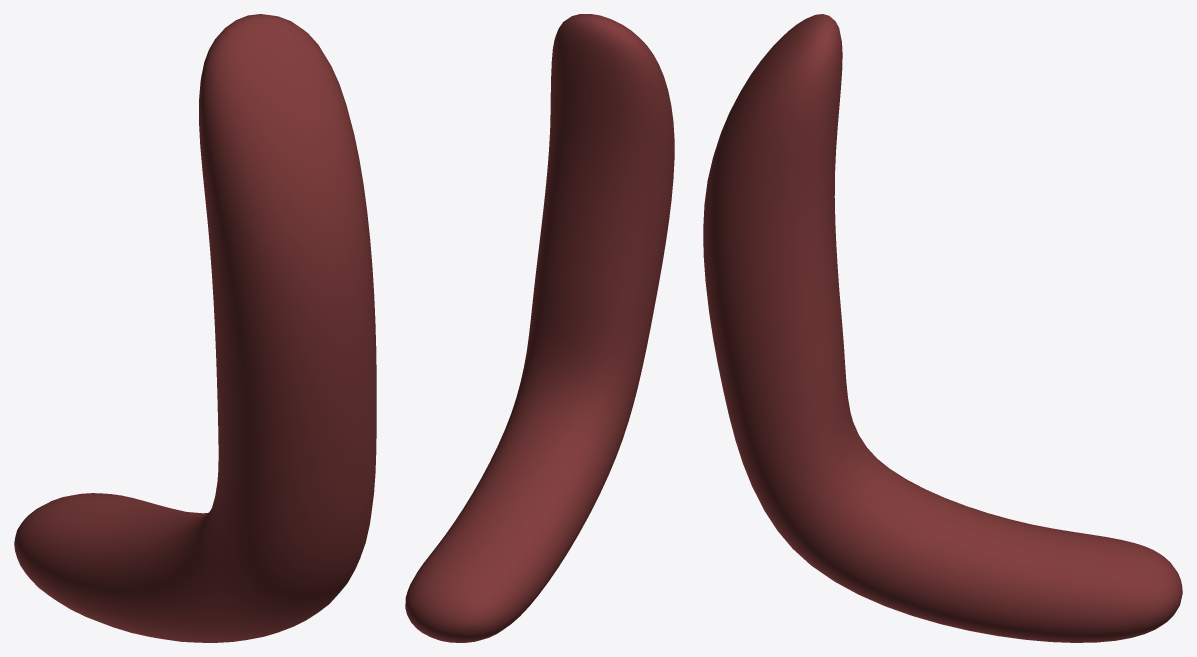
The model's file is uretra.fbx.
The picture shows the model from 3 angles, left to right: view 1: azimuth 30°, elevation 25°; view 2: azimuth 150°, elevation 25°; view 3: azimuth 270°, elevation 25°; orthographic projection. The views are drawn at different scales.
Parts seen in each view (by area): view 1: Cube_001; view 2: Cube_001; view 3: Cube_001.
Boxes of the visible parts, bbox=[...] form: Cube_001: bbox=[14, 14, 376, 642]; Cube_001: bbox=[405, 14, 674, 642]; Cube_001: bbox=[703, 14, 1182, 642].
Bounding box in the file's own units: 2.12 × 8.56 × 6.13.
